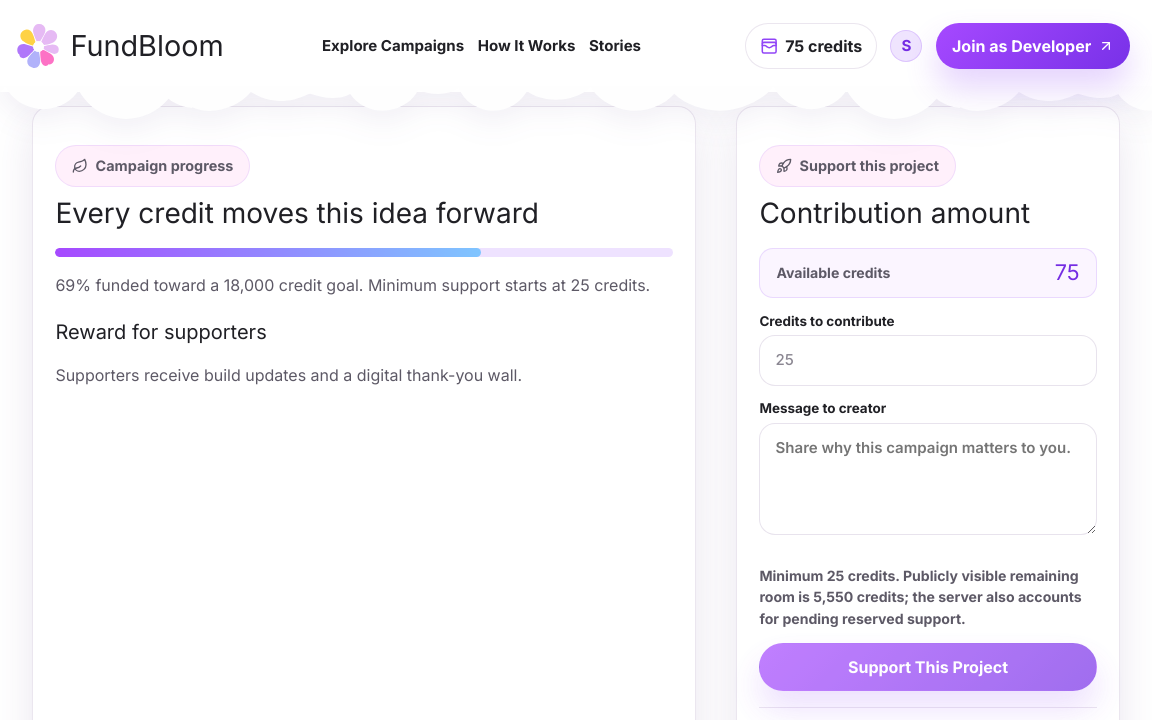
Test case: Explore campaign pages › disables invalid contribution amounts before submit
(page scrolled)
Expected: the button "Support This Project" is disabled, [759,643,1097,691]
Type "10" into the number field labelled "Credits to contribute".
click(928, 361); type("10")  # box [759,335,1097,386]
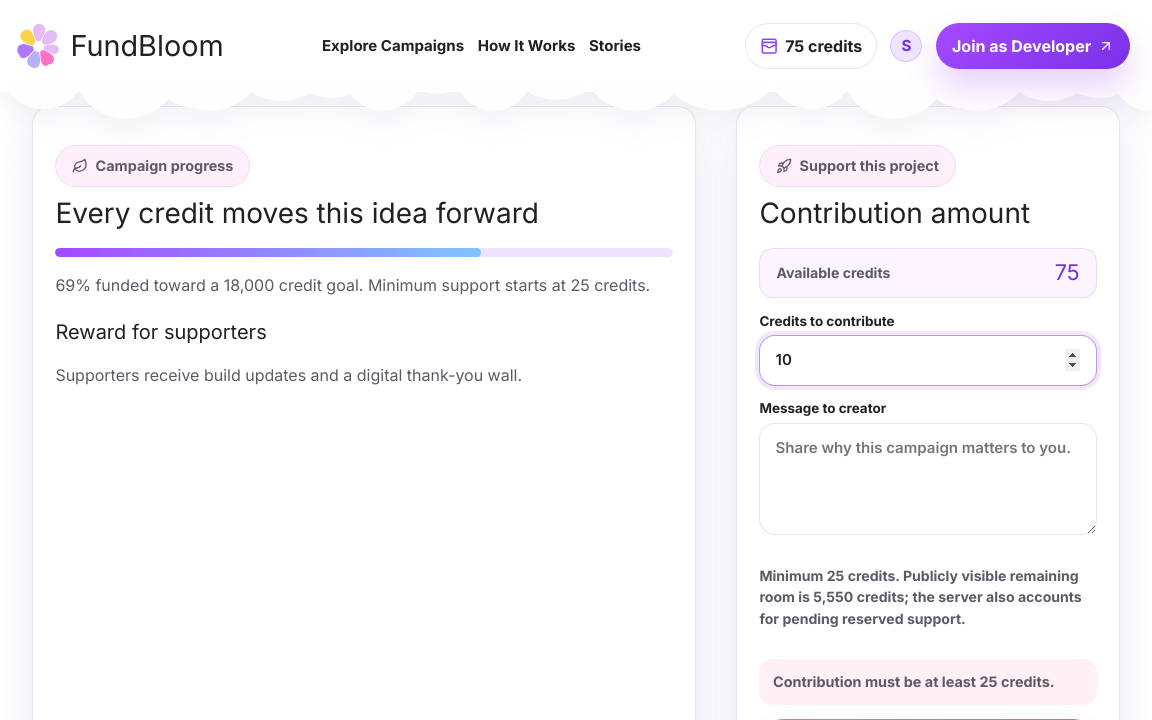
Result: the text "Contribution must be at least 25 credits." is shown at [759,659,1097,705]
Replace the text in the number field labelled "Credits to contribute" with "100" at (928, 361), box [759,335,1097,386]
(page scrolled)
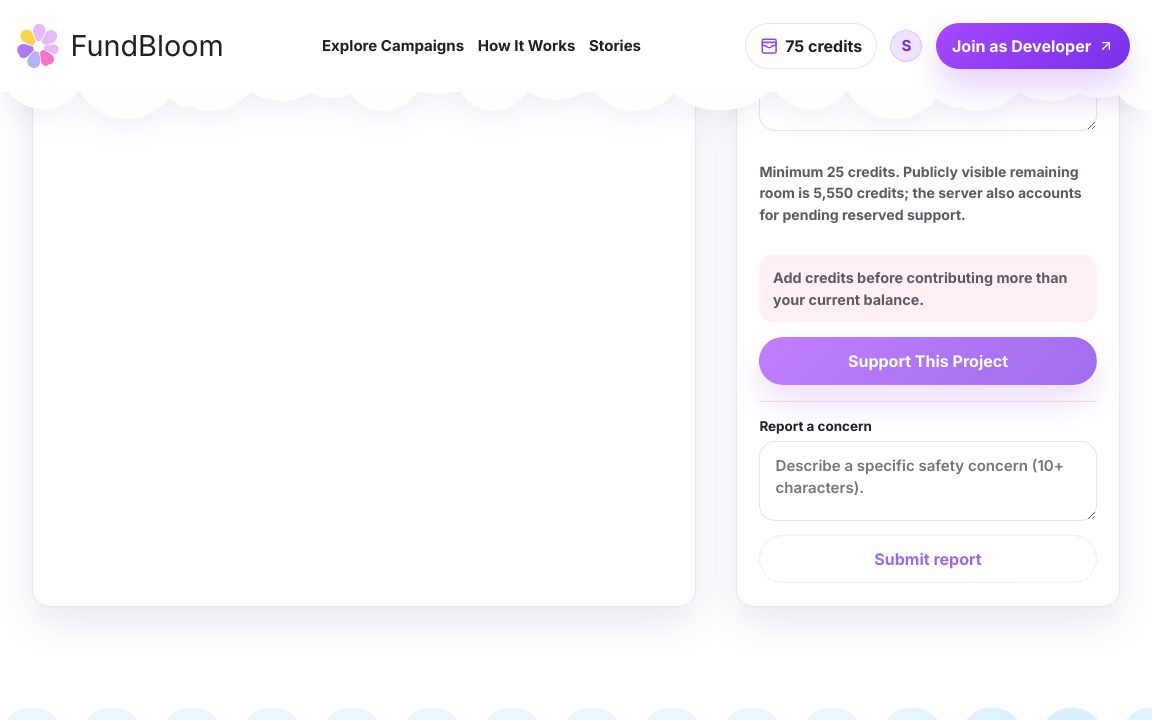
Result: the text "current balance" is shown at [773,269,1068,308]
